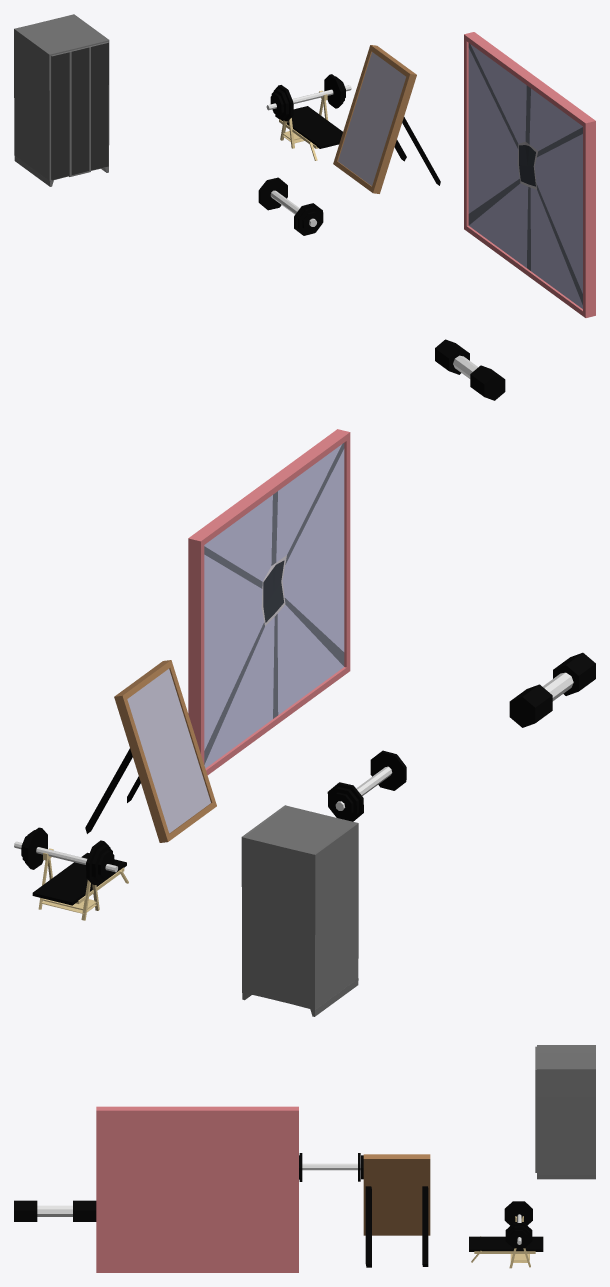
The model's file is PedroCenasHot.fbx.
3 renders of one model, top to bottom at view 1: azimuth 30°, elevation 25°; view 2: azimuth 150°, elevation 25°; view 3: azimuth 270°, elevation 25°, orthographic. The views are drawn at different scales.
Visible parts, largest first — view 1: Espelho grande, Armario, EspelhoPequeno, PesoAcademia, Coletável, PESO; view 2: Espelho grande, Armario, EspelhoPequeno, PesoAcademia, Coletável, PESO; view 3: Espelho grande, Armario, EspelhoPequeno, PesoAcademia, Coletável, PESO.
Part boxes in pixels (bbox=[...]): Espelho grande: bbox=[464, 32, 595, 317]; Armario: bbox=[14, 14, 109, 186]; EspelhoPequeno: bbox=[333, 45, 440, 193]; PesoAcademia: bbox=[266, 74, 351, 160]; Coletável: bbox=[435, 339, 505, 400]; PESO: bbox=[258, 177, 323, 235]; Espelho grande: bbox=[188, 429, 350, 775]; Armario: bbox=[241, 805, 358, 1016]; EspelhoPequeno: bbox=[85, 660, 216, 842]; PesoAcademia: bbox=[14, 827, 128, 920]; Coletável: bbox=[509, 652, 595, 727]; PESO: bbox=[327, 750, 406, 821]; Espelho grande: bbox=[96, 1106, 298, 1272]; Armario: bbox=[535, 1045, 595, 1179]; EspelhoPequeno: bbox=[363, 1154, 430, 1267]; PesoAcademia: bbox=[469, 1201, 543, 1268]; Coletável: bbox=[14, 1200, 96, 1221]; PESO: bbox=[299, 1153, 363, 1181].
Size of the model in its own units: 520 by 354 by 1084.
